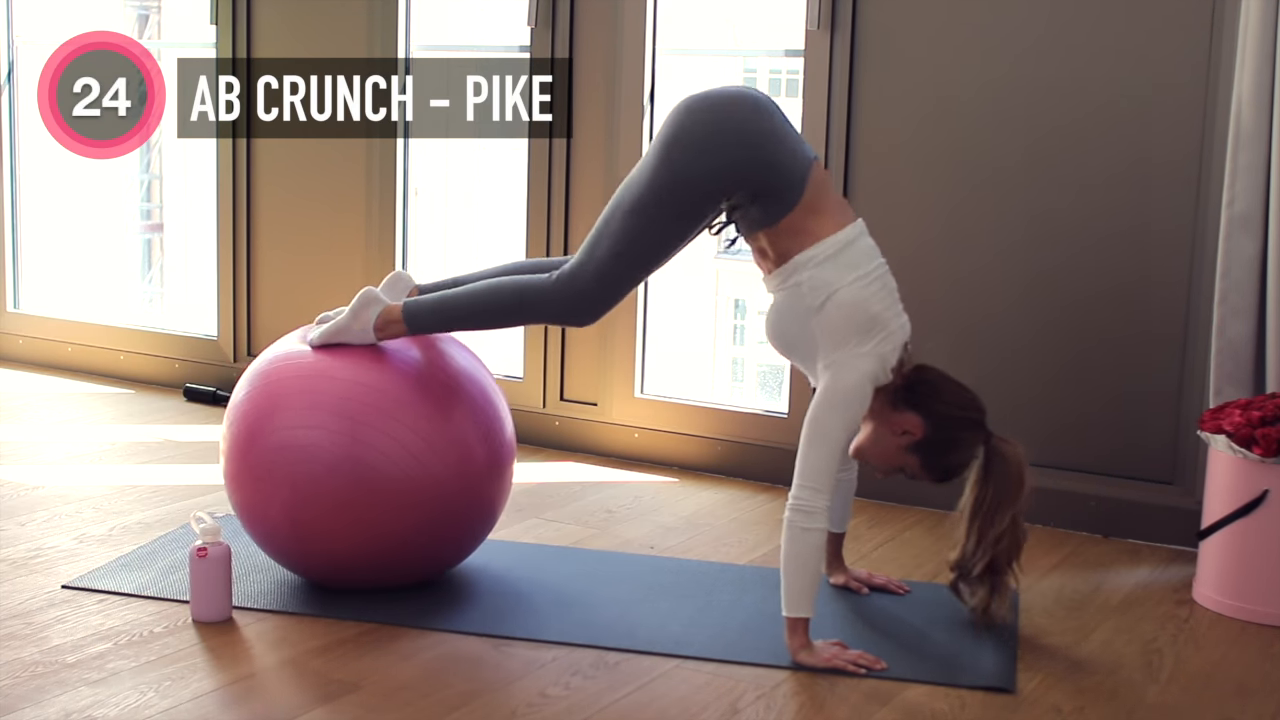yogaball: (217, 313, 523, 598)
